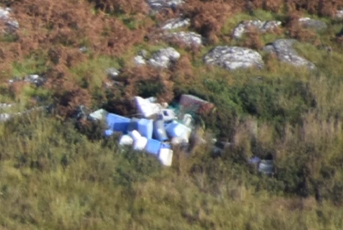together_barrel: (85, 94, 196, 169)
